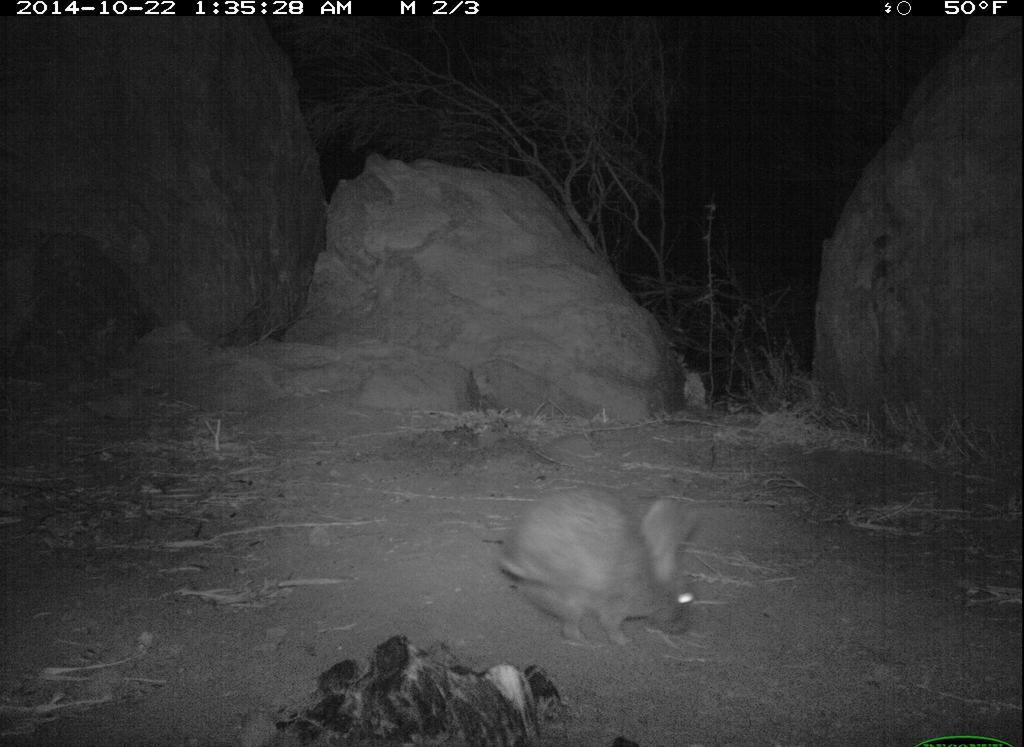rabbit: (489, 481, 706, 653)
